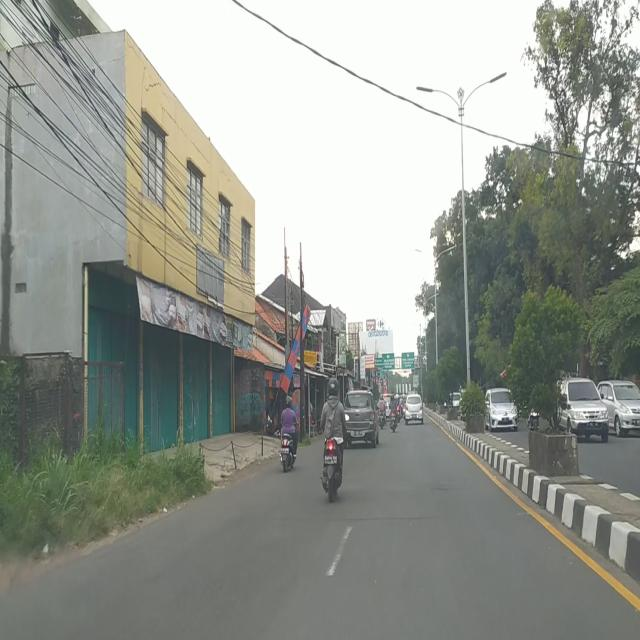Sewer Cover: (327, 516, 427, 522)
